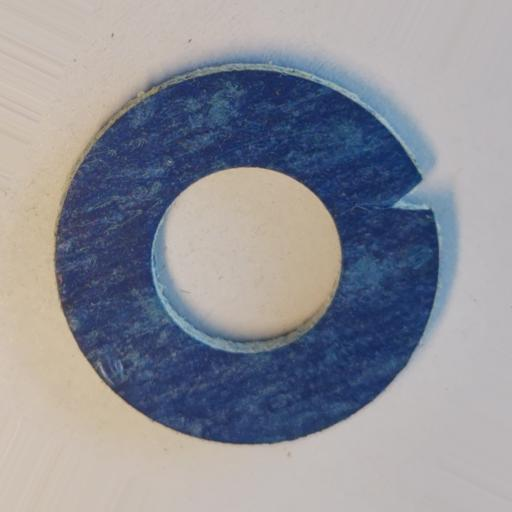defect: (386, 176, 434, 212)
